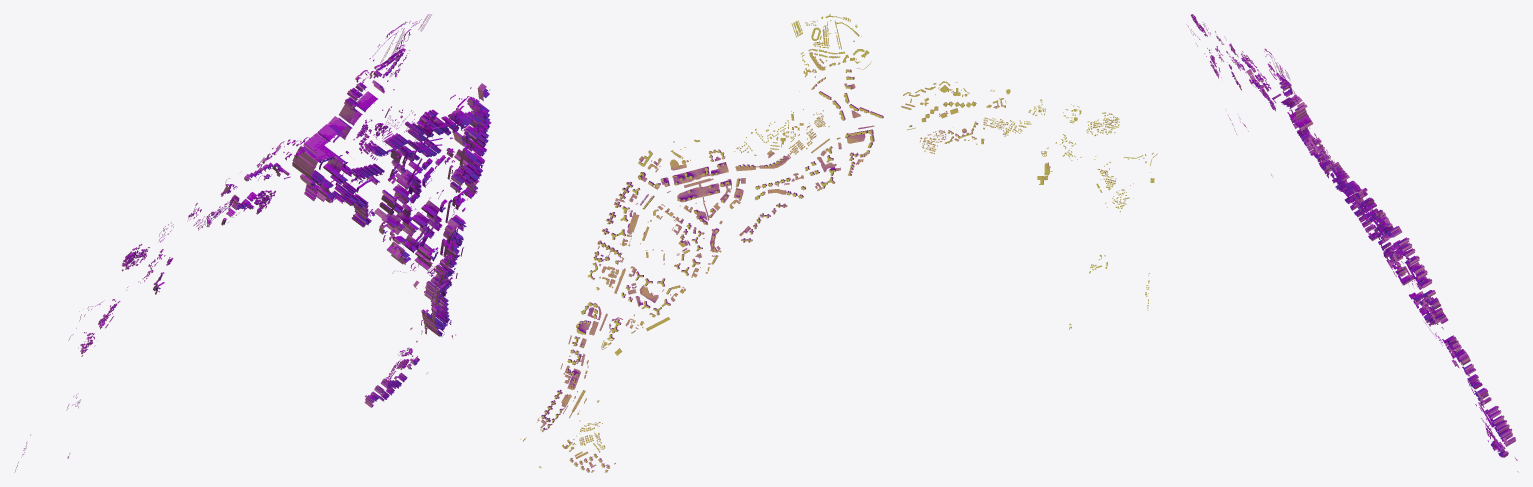
The picture shows the model from 3 angles, left to right: view 1: azimuth 30°, elevation 25°; view 2: azimuth 150°, elevation 25°; view 3: azimuth 270°, elevation 25°; orthographic projection. The views are drawn at different scales.
Visible parts, largest first — view 1: geometry_0; view 2: geometry_0; view 3: geometry_0.
Boxes of the visible parts, x1,y1,x2,y2 form: geometry_0: (14, 14, 491, 472); geometry_0: (520, 14, 1157, 472); geometry_0: (1186, 14, 1518, 472).
Size of the model in its own units: 4326 by 3435 by 2921.
